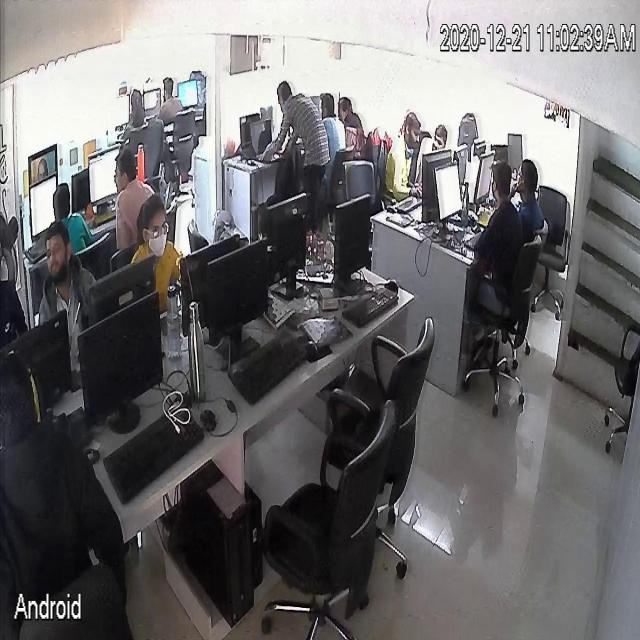chair: (259, 394, 396, 640), (337, 313, 437, 579), (464, 233, 542, 422), (17, 558, 131, 640), (604, 293, 640, 455), (534, 177, 572, 325), (162, 104, 196, 172), (341, 156, 378, 210), (77, 230, 113, 276), (332, 142, 353, 209), (365, 122, 386, 182), (27, 257, 47, 307), (116, 241, 136, 267)
keyboard: (102, 403, 204, 509), (226, 319, 310, 407), (339, 271, 401, 327), (394, 193, 422, 215), (463, 228, 481, 250), (31, 244, 48, 266)
laptop: (250, 122, 278, 167)
monitor: (78, 290, 164, 425), (179, 220, 241, 338), (2, 303, 74, 397), (203, 234, 267, 330), (86, 252, 158, 330), (267, 188, 307, 284), (336, 190, 370, 280), (421, 146, 449, 221), (88, 147, 120, 209), (28, 172, 58, 238), (434, 155, 462, 225), (476, 151, 492, 205), (176, 78, 198, 107), (142, 86, 160, 120), (240, 114, 255, 146), (455, 145, 469, 177), (493, 142, 509, 169), (474, 140, 484, 158), (310, 95, 320, 109)
person: (3, 363, 119, 583), (272, 75, 330, 199), (479, 162, 523, 314), (136, 189, 180, 303), (384, 102, 424, 206), (53, 178, 91, 249), (0, 234, 23, 330), (320, 79, 344, 169), (420, 108, 447, 188), (119, 154, 148, 228), (521, 152, 543, 244), (337, 87, 365, 154), (160, 74, 182, 124), (125, 87, 145, 137)
